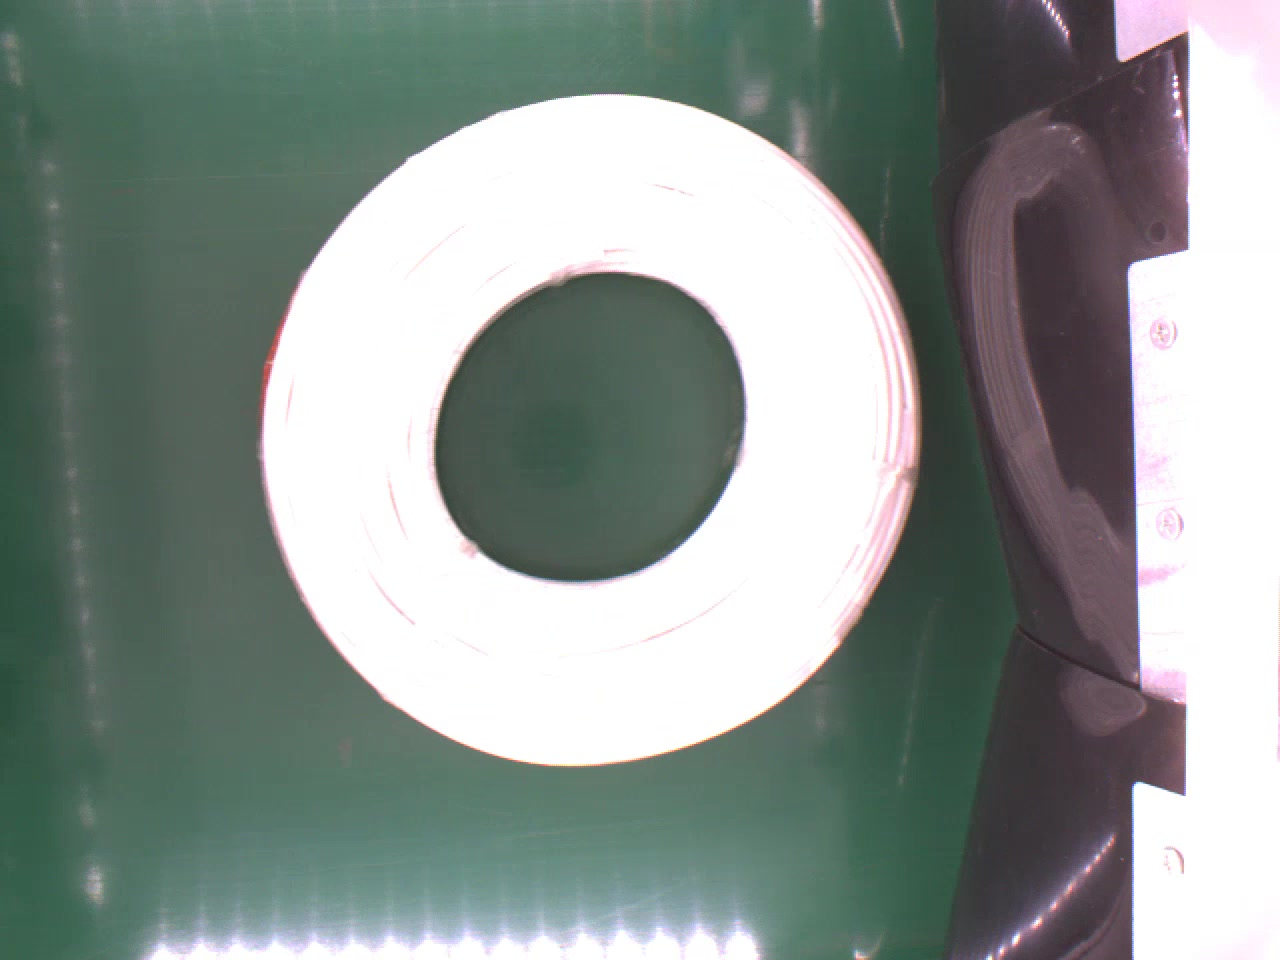white: (251, 83, 935, 776)
